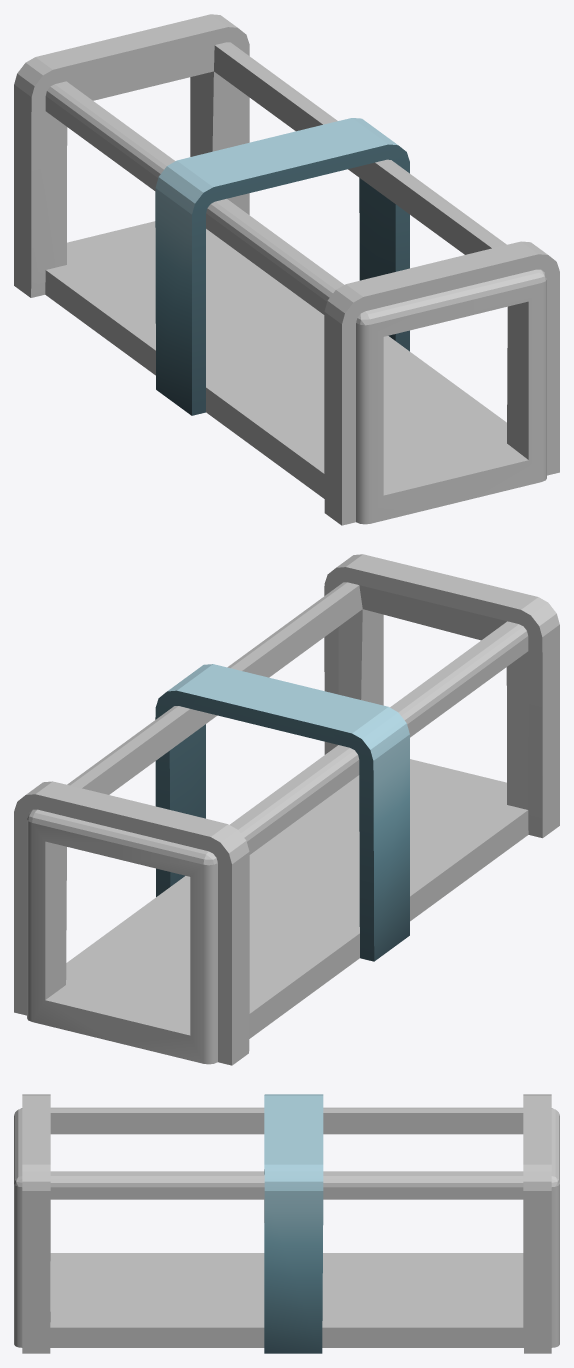
Rendered from block_lock (1).fbx.
3 renders of one model, top to bottom at view 1: azimuth 30°, elevation 25°; view 2: azimuth 150°, elevation 25°; view 3: azimuth 270°, elevation 25°, orthographic. The views are drawn at different scales.
Visible parts, largest first — view 1: separated_01; view 2: separated_01; view 3: separated_01.
Boxes of the visible parts, <box> form: separated_01: <box>14,14,559,525</box>; separated_01: <box>14,554,559,1065</box>; separated_01: <box>14,1094,559,1353</box>.
Size of the model in its own units: 155 by 152 by 416.
